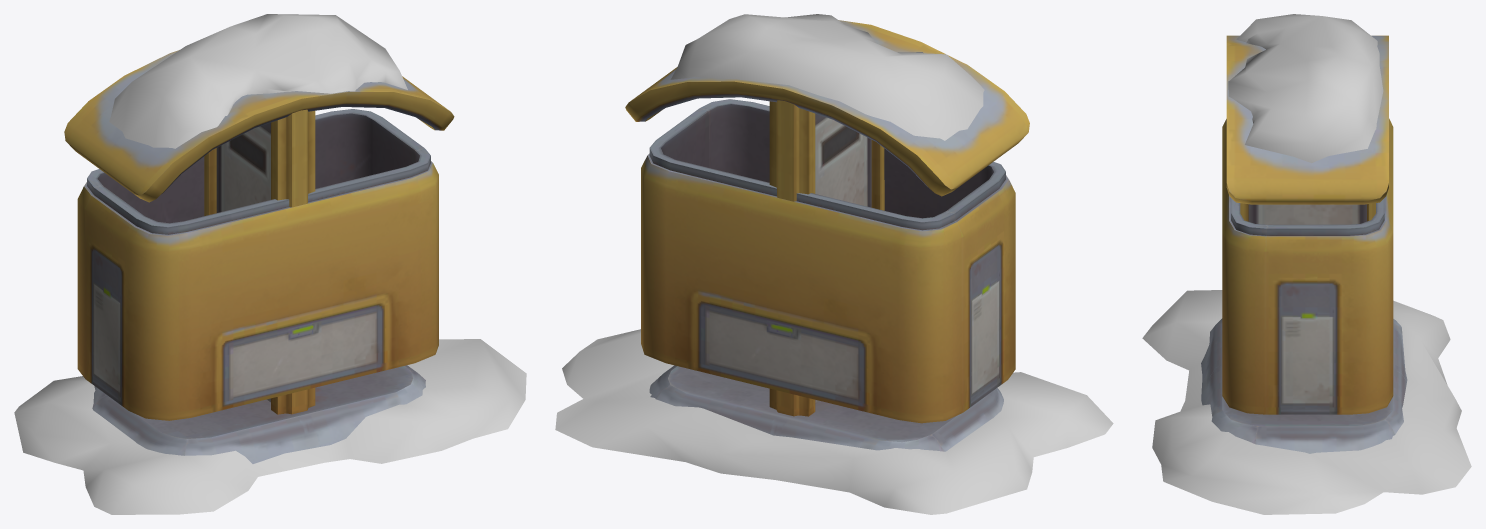
Rendered from pref_sm_city_trash01_snow_lv3.fbx.
The picture shows the model from 3 angles, left to right: view 1: azimuth 30°, elevation 25°; view 2: azimuth 150°, elevation 25°; view 3: azimuth 270°, elevation 25°; orthographic projection. The views are drawn at different scales.
Visible parts, largest first — view 1: sm_city_trash01_snow_lv3, sm_city_trash01b_snow_lv3; view 2: sm_city_trash01_snow_lv3, sm_city_trash01b_snow_lv3; view 3: sm_city_trash01_snow_lv3, sm_city_trash01b_snow_lv3.
Boxes of the visible parts, <box> form: sm_city_trash01_snow_lv3: <box>64,50,454,463</box>; sm_city_trash01b_snow_lv3: <box>14,14,526,514</box>; sm_city_trash01_snow_lv3: <box>625,20,1029,451</box>; sm_city_trash01b_snow_lv3: <box>555,14,1113,514</box>; sm_city_trash01_snow_lv3: <box>1201,35,1407,453</box>; sm_city_trash01b_snow_lv3: <box>1142,14,1471,514</box>.
Size of the model in its own units: 2.35 by 1.84 by 1.51.
